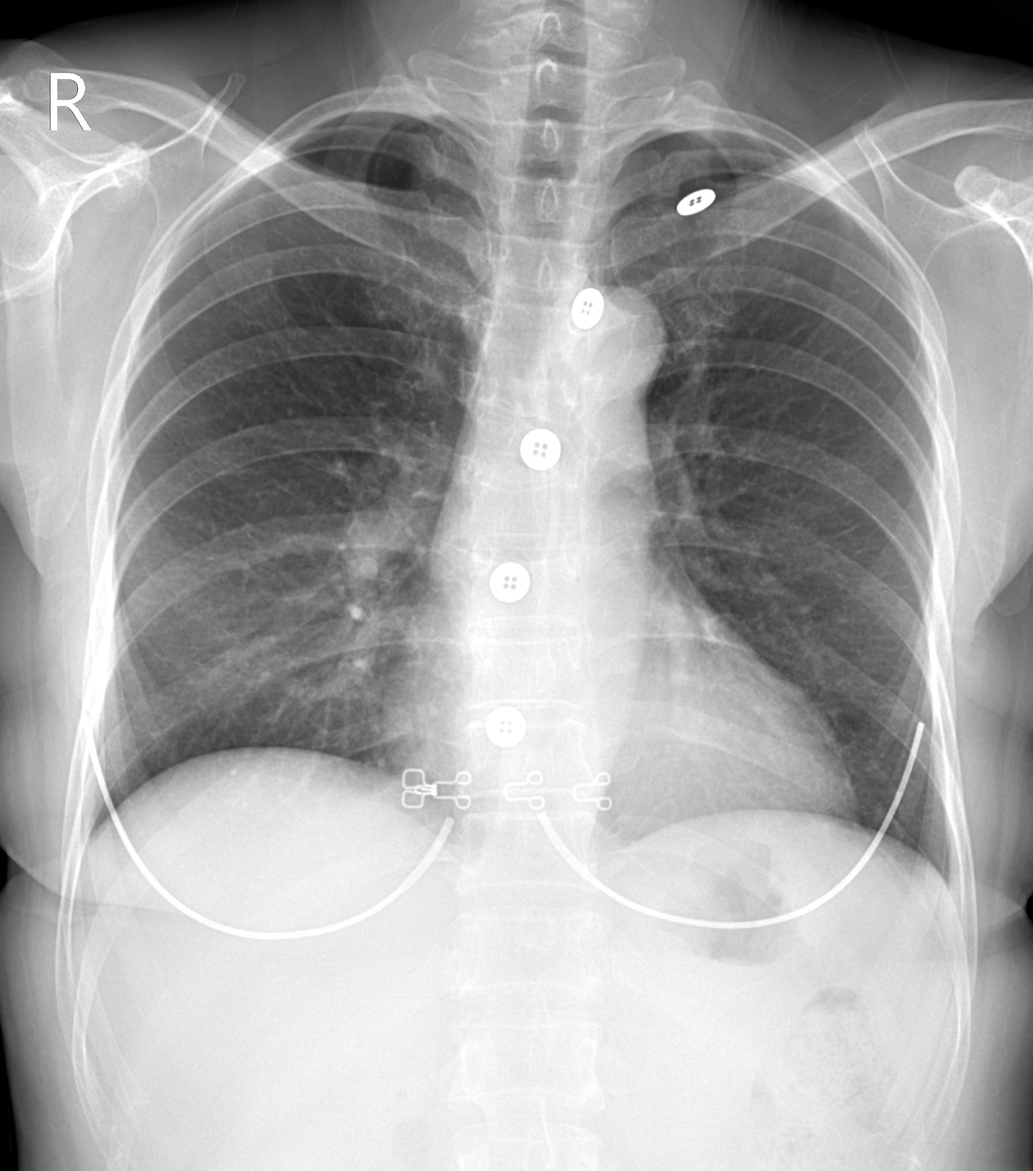Aortic enlargement: (548, 282, 668, 401)
Cardiomegaly: (381, 664, 856, 836)
Pleural thickening: (287, 109, 396, 151)
